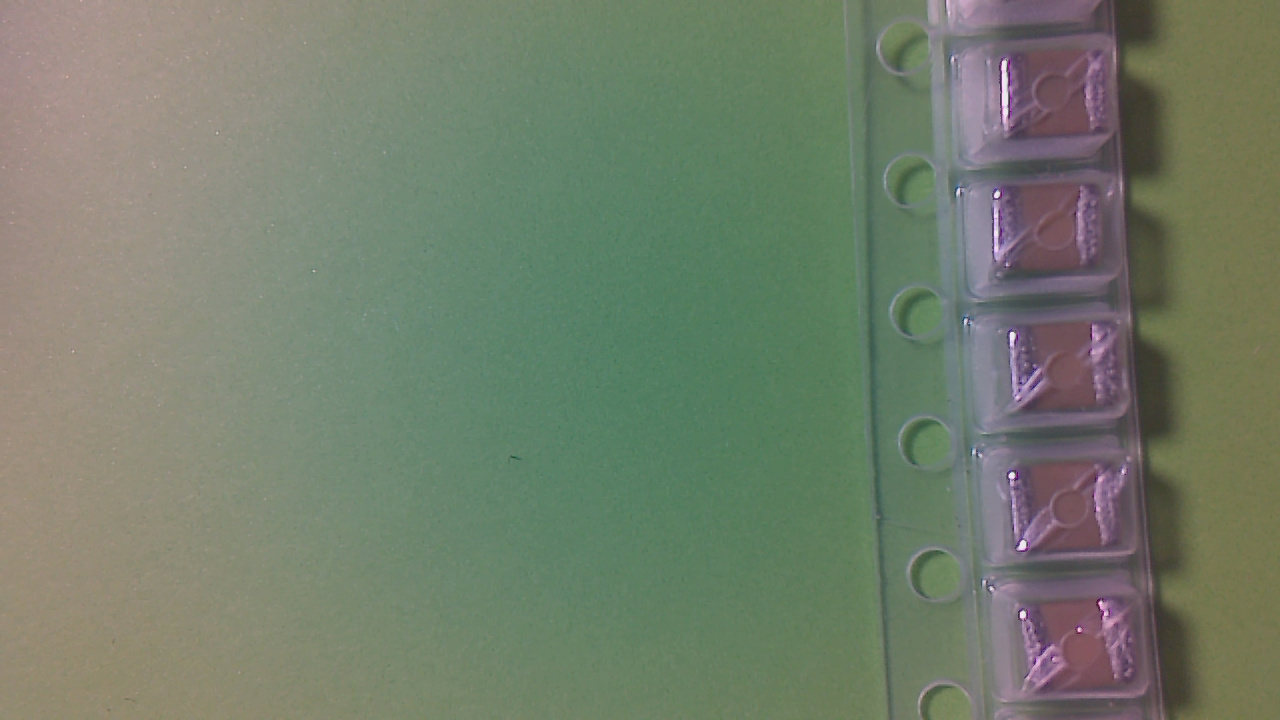Condensator: (1022, 608, 1136, 694), (994, 190, 1103, 278), (1013, 466, 1124, 550), (1014, 328, 1121, 412), (1007, 55, 1110, 140)
